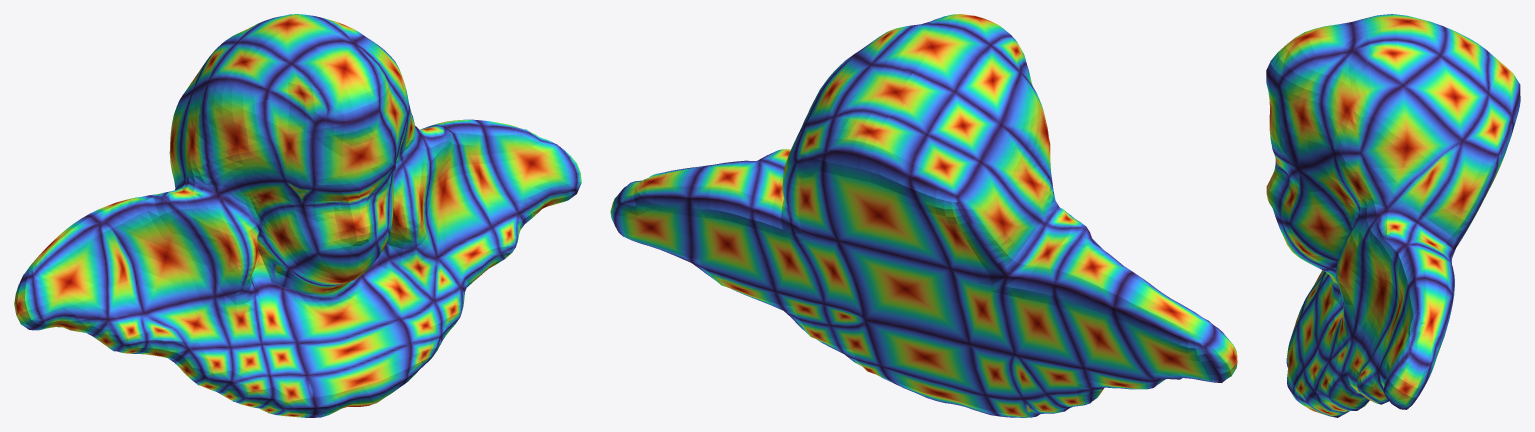
Rendered from gen3.glb.
3 views of the same model, side by side, from view 1: azimuth 30°, elevation 25°; view 2: azimuth 150°, elevation 25°; view 3: azimuth 270°, elevation 25° (orthographic). The views are drawn at different scales.
Visible parts, largest first — view 1: Node; view 2: Node; view 3: Node.
Boxes of the visible parts, left/top/right/bottom form: Node: left=14, top=14, right=581, bottom=417; Node: left=610, top=14, right=1237, bottom=417; Node: left=1266, top=14, right=1520, bottom=417.
Bounding box in the file's own units: 67.98 × 41.37 × 25.78.
Materials: 1 (1 with a texture image).
